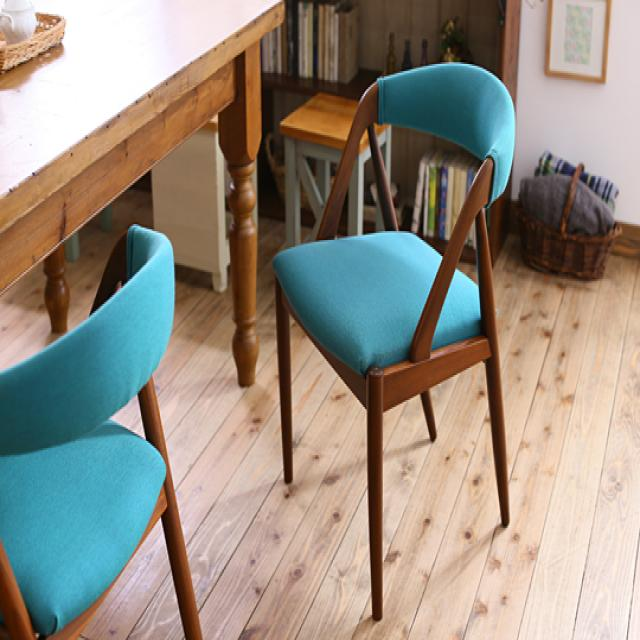chair vintage: (270, 57, 521, 626)
